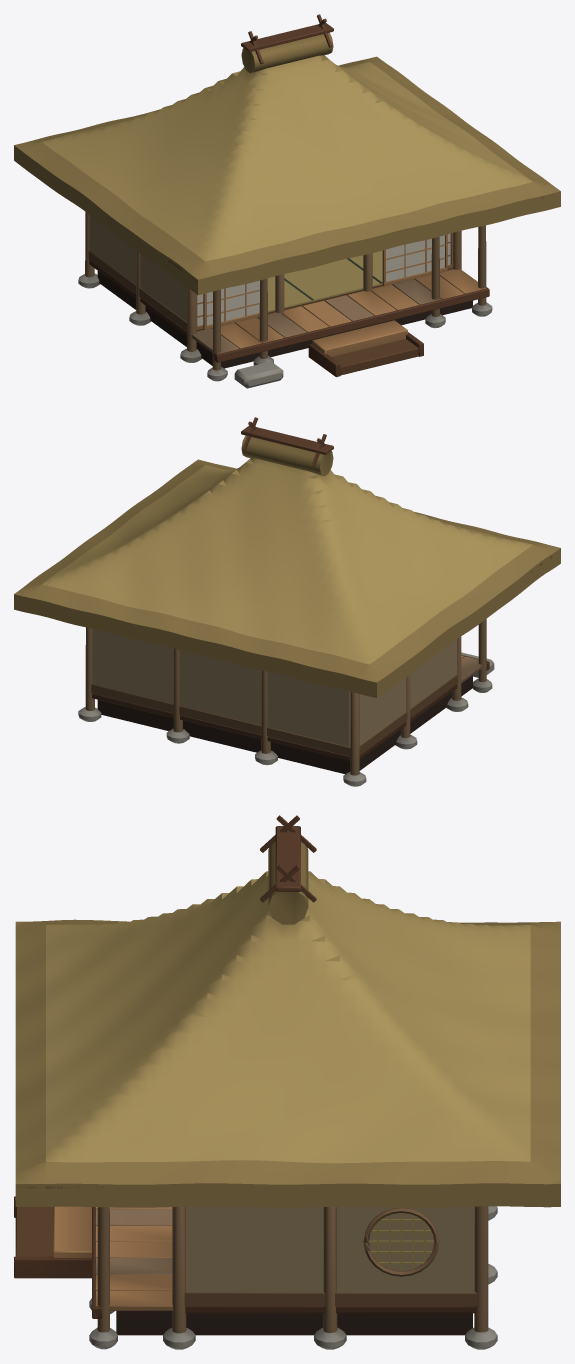
File: teahouse.glb
The picture shows the model from 3 angles, top to bottom: view 1: azimuth 30°, elevation 25°; view 2: azimuth 150°, elevation 25°; view 3: azimuth 270°, elevation 25°; orthographic projection. The views are drawn at different scales.
Parts seen in each view (by area): view 1: teahouse; view 2: teahouse; view 3: teahouse.
Boxes of the visible parts, bbox=[...] form: teahouse: bbox=[14, 14, 560, 388]; teahouse: bbox=[14, 417, 560, 786]; teahouse: bbox=[14, 815, 560, 1349].
Size of what is drawn, in the model's own units: 9.99 by 7.29 by 8.8.
